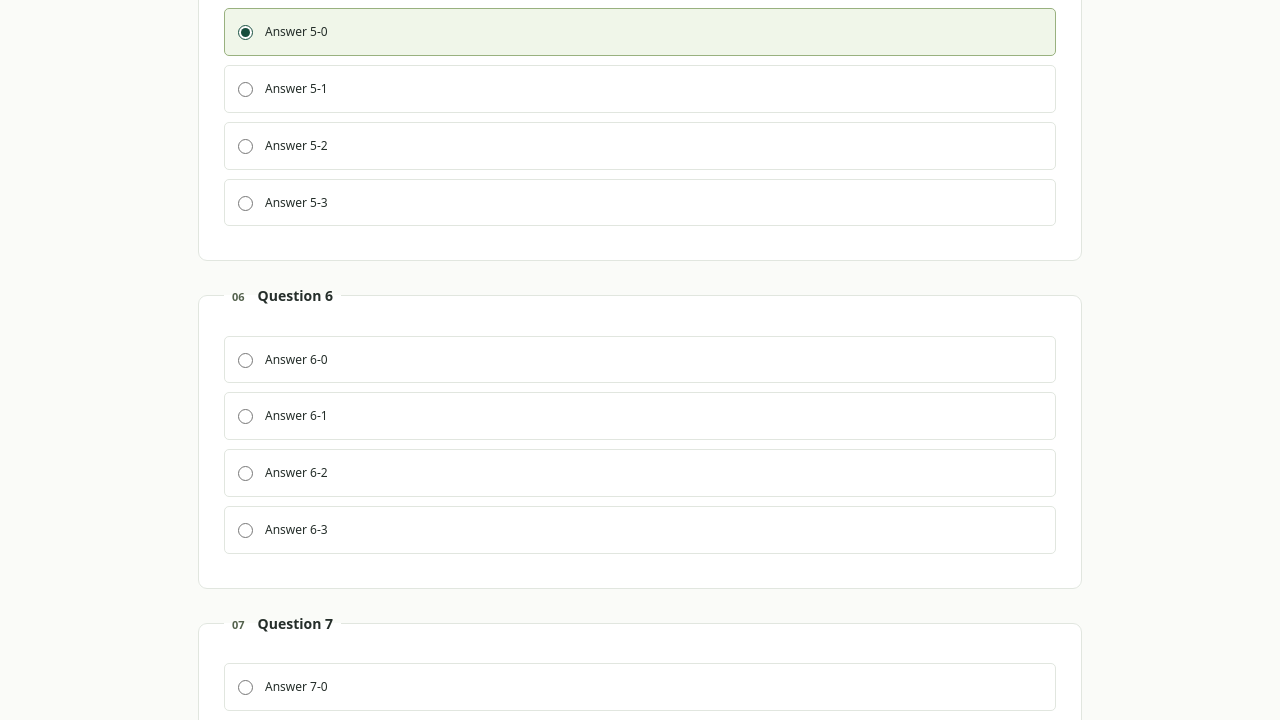
Test: Quiz workflow › requires all ten answers and submits once while preserving the server result
This screenshot has width=1280, height=720.
Earlier steps of the test are not shown.
Later steps or results of the test are not shown.
(page scrolled)
Click the radio button labelled "Answer 6-0" at (246, 360), box top-left (238, 353), bottom-right (253, 368)
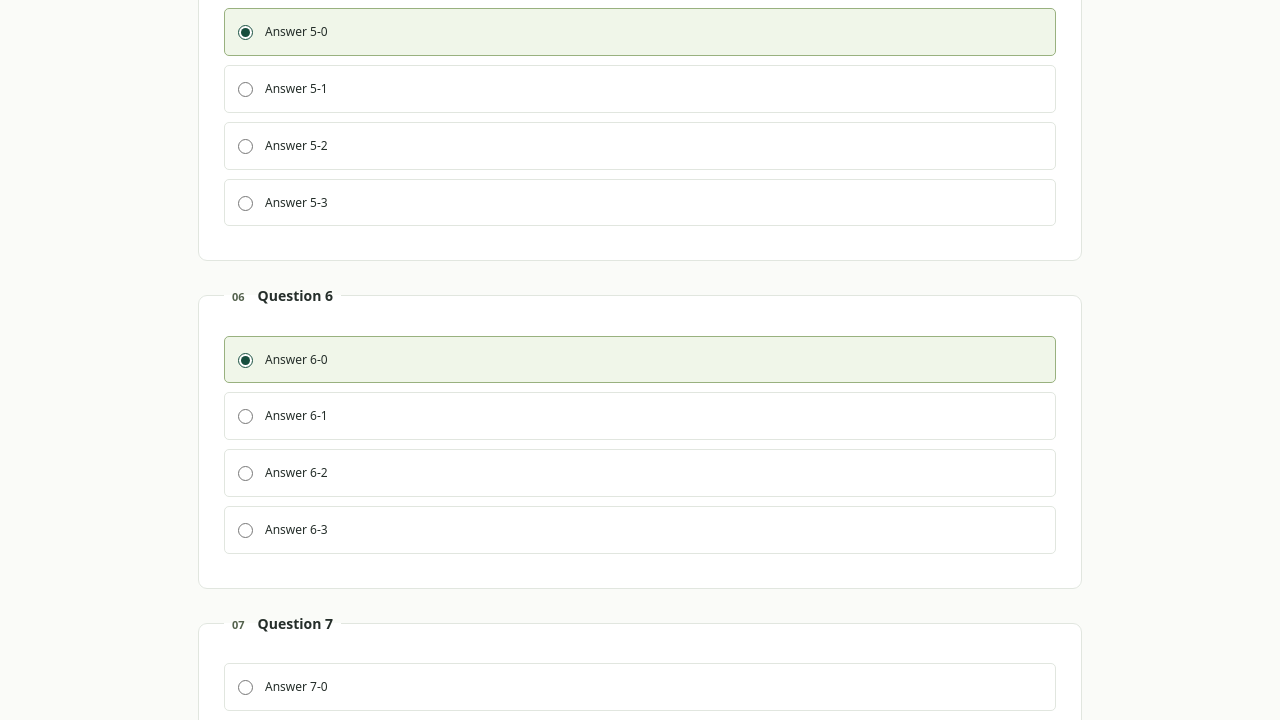
Click the radio button labelled "Answer 7-0" at (246, 687), box top-left (238, 680), bottom-right (253, 695)
(page scrolled)
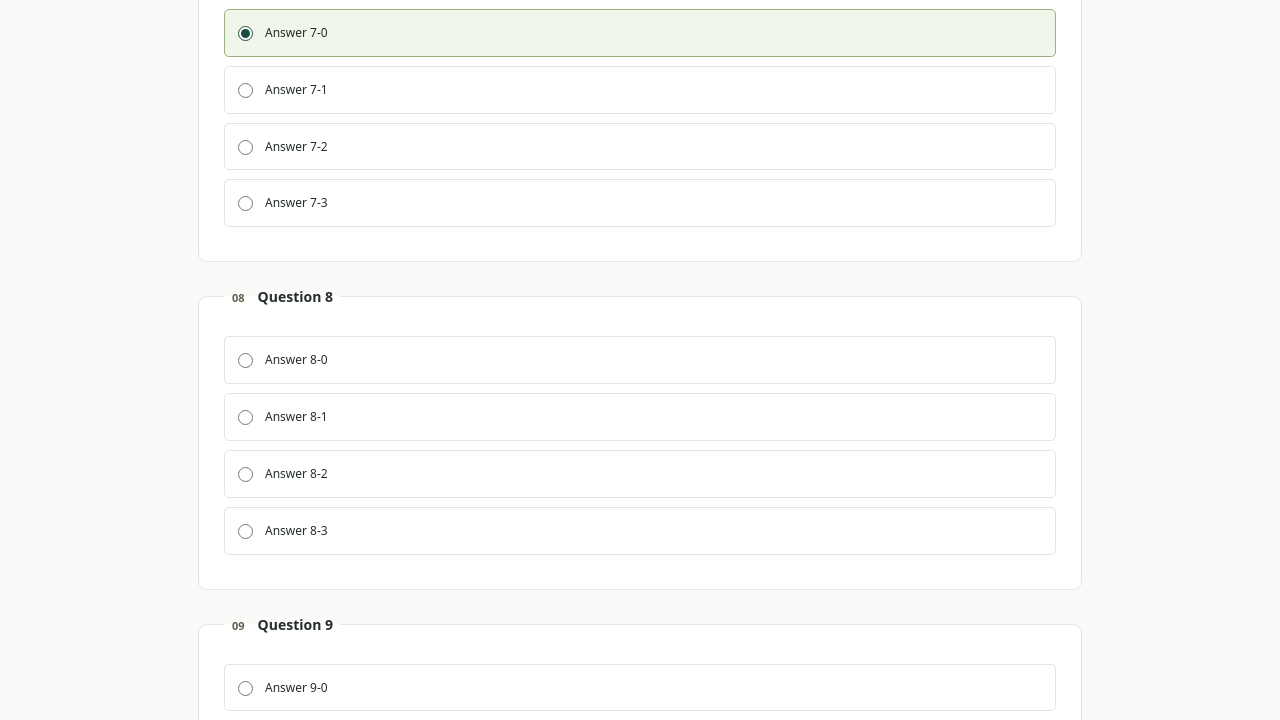
Click the radio button labelled "Answer 8-0" at (246, 361), box top-left (238, 353), bottom-right (253, 368)
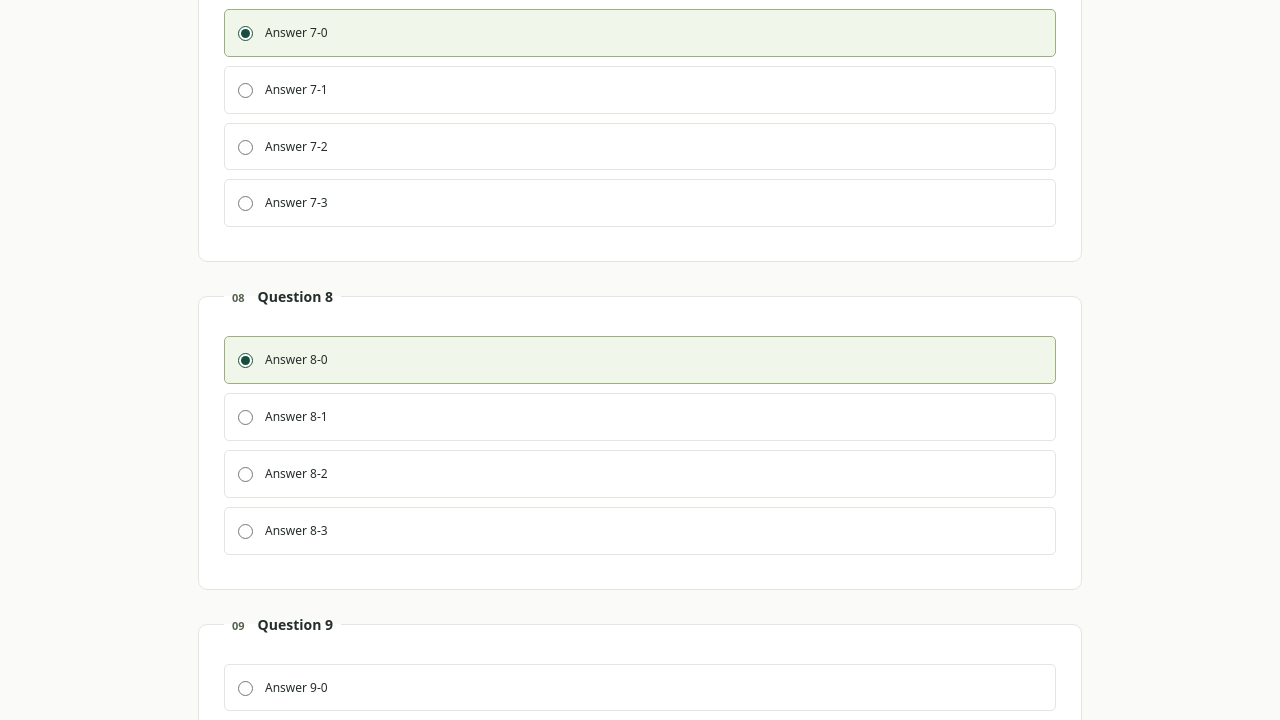
Click the radio button labelled "Answer 9-0" at (246, 688), box top-left (238, 681), bottom-right (253, 696)
(page scrolled)
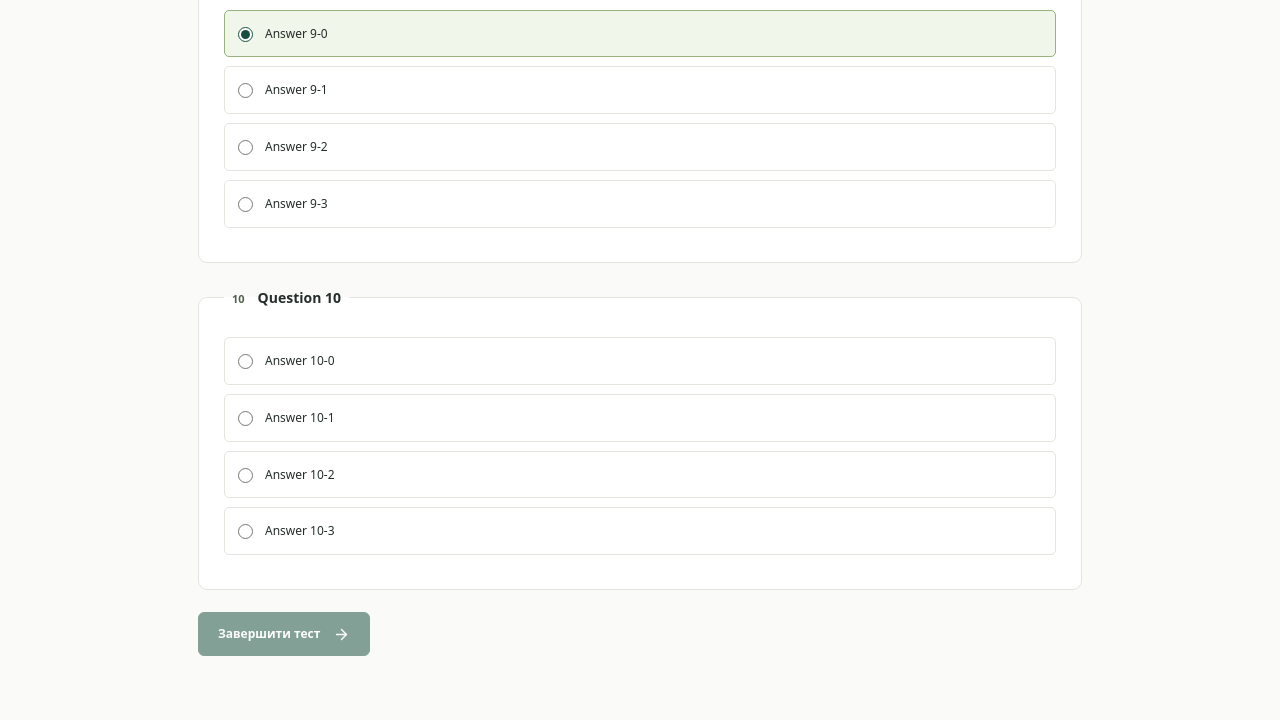
Click the radio button labelled "Answer 10-0" at (246, 362), box top-left (238, 354), bottom-right (253, 369)
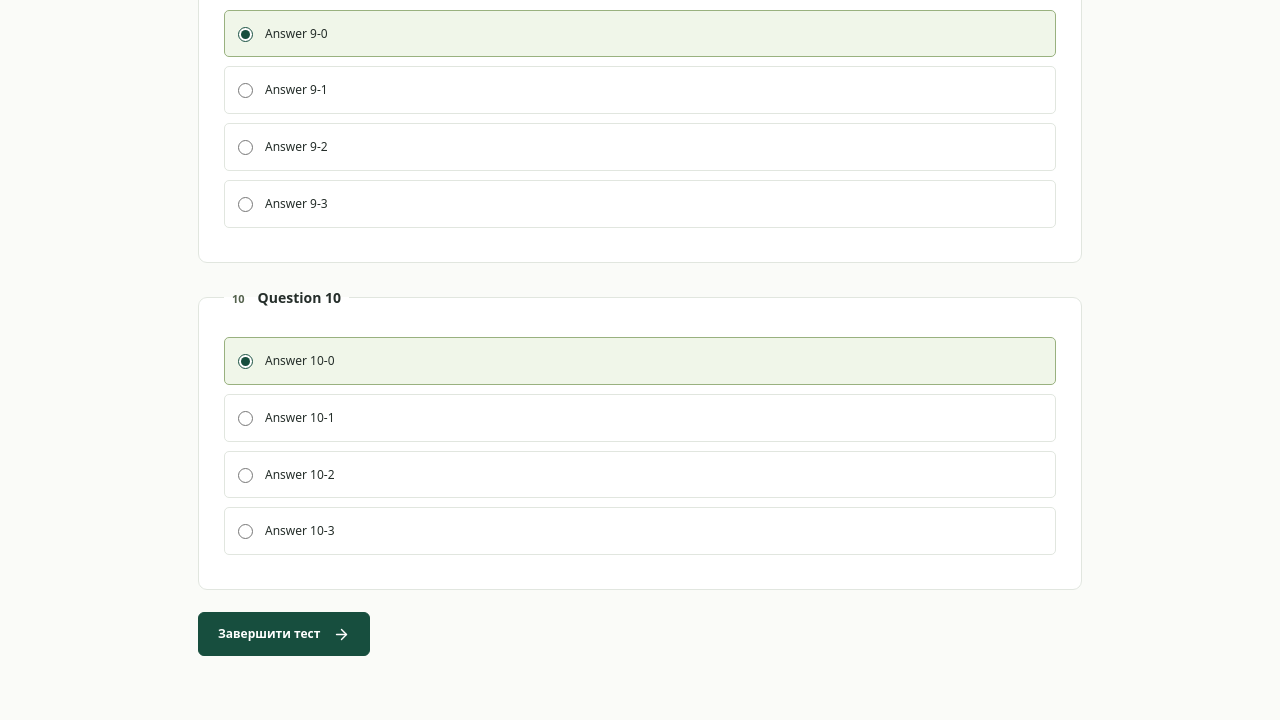
Check: the button "Завершити тест" is enabled
Double-click the button "Завершити тест" at (284, 634), box top-left (198, 612), bottom-right (370, 656)
(page scrolled)
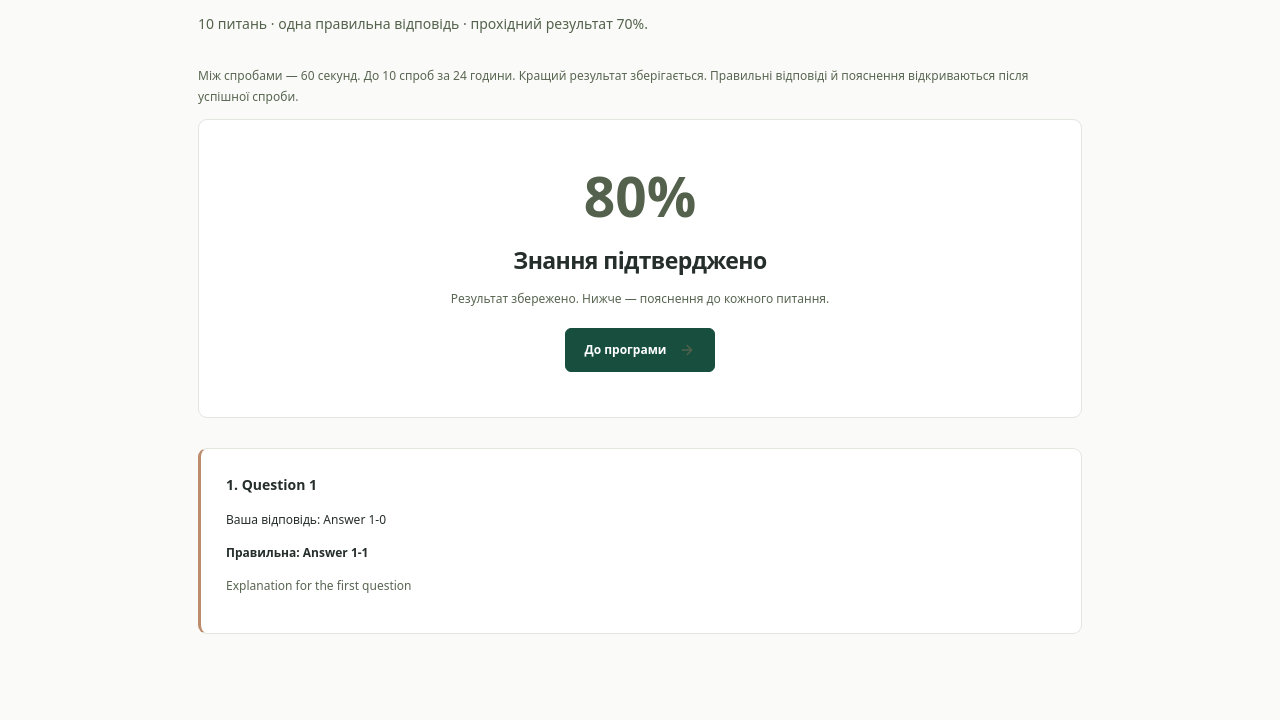
Check: the heading "Знання підтверджено" is shown, box top-left (513, 244), bottom-right (767, 276)
Check: the text "80%" is shown, box top-left (584, 158), bottom-right (696, 232)
Check: the text "Explanation for the first question" is shown, box top-left (226, 576), bottom-right (412, 594)
